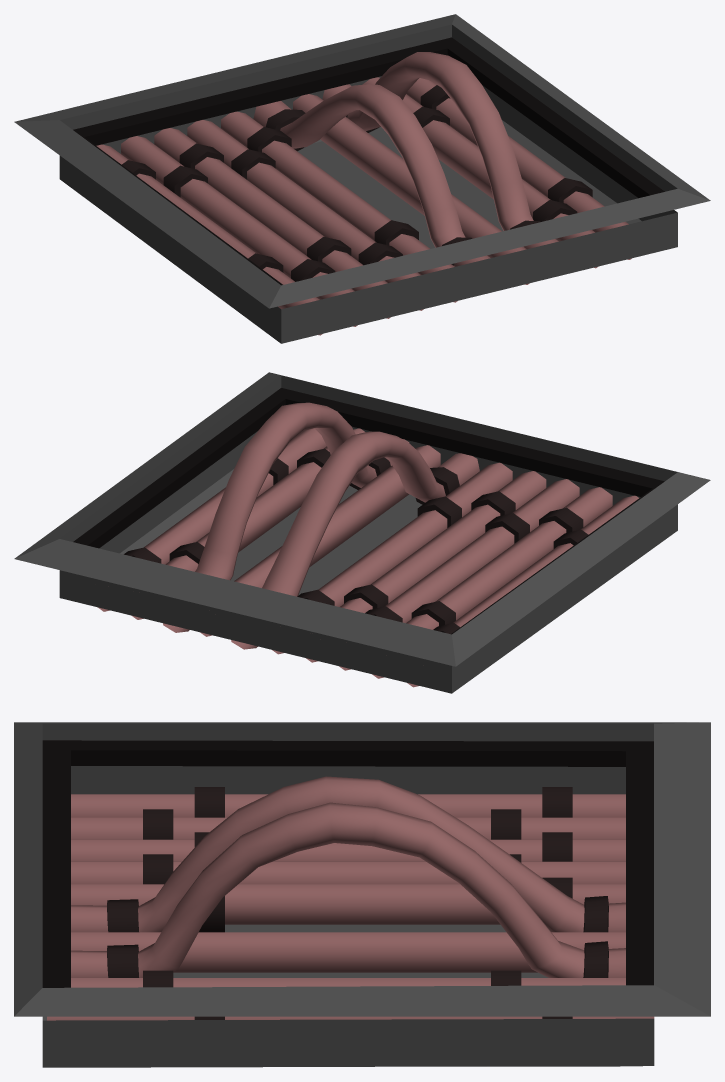
File: Module_Ss_roof_1XCb.FBX
3 views of the same model, one above another, from view 1: azimuth 30°, elevation 25°; view 2: azimuth 150°, elevation 25°; view 3: azimuth 270°, elevation 25° (orthographic). The views are drawn at different scales.
Visible parts, largest first — view 1: Module_Ss_roof_1XCb; view 2: Module_Ss_roof_1XCb; view 3: Module_Ss_roof_1XCb.
Boxes of the visible parts, x1,y1,x2,y2 form: Module_Ss_roof_1XCb: [14, 14, 710, 343]; Module_Ss_roof_1XCb: [14, 372, 710, 693]; Module_Ss_roof_1XCb: [14, 722, 710, 1067].
Size of the model in its own units: 39.37 by 12.36 by 39.37.
